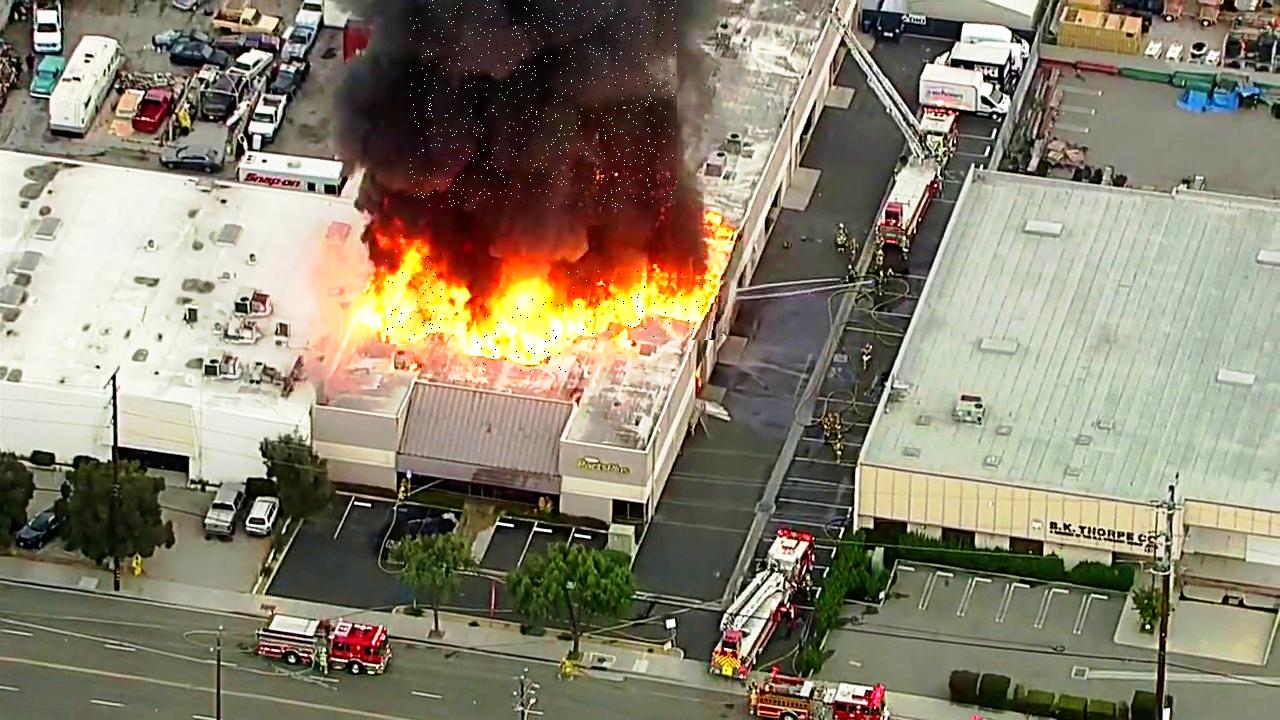fire: (567, 270, 729, 340), (477, 297, 567, 372), (386, 249, 442, 344)
smoke: (410, 0, 677, 208)
